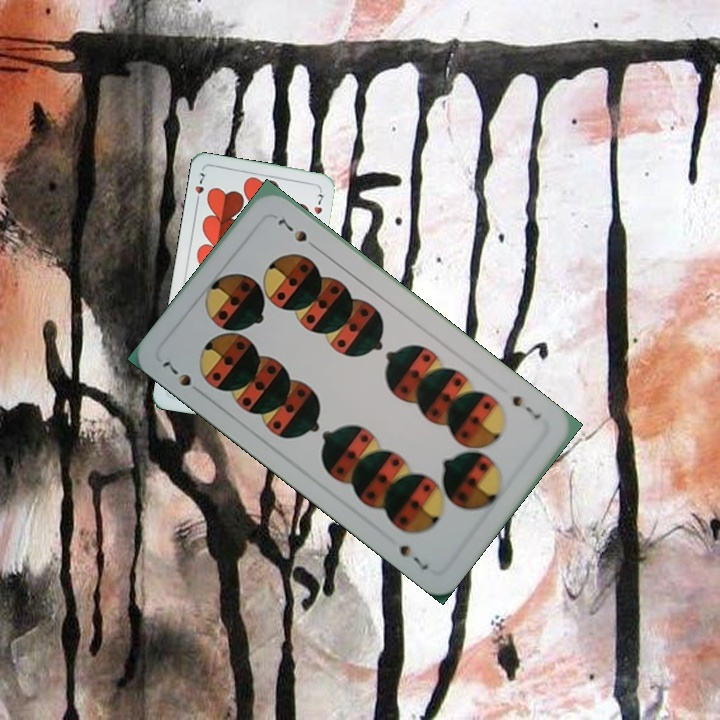H7: (191, 169, 208, 207)
S7: (158, 356, 207, 398), (508, 391, 544, 423)
